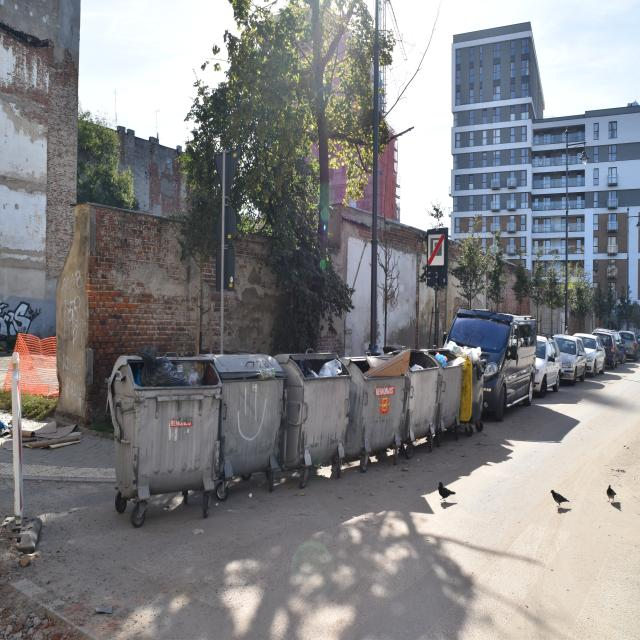entulho: (1, 420, 88, 449)
lixo domiciliar: (127, 345, 215, 390), (356, 346, 412, 380), (297, 354, 345, 380), (436, 344, 467, 368), (446, 342, 483, 362), (18, 552, 42, 568), (255, 364, 277, 381), (96, 603, 114, 617)
